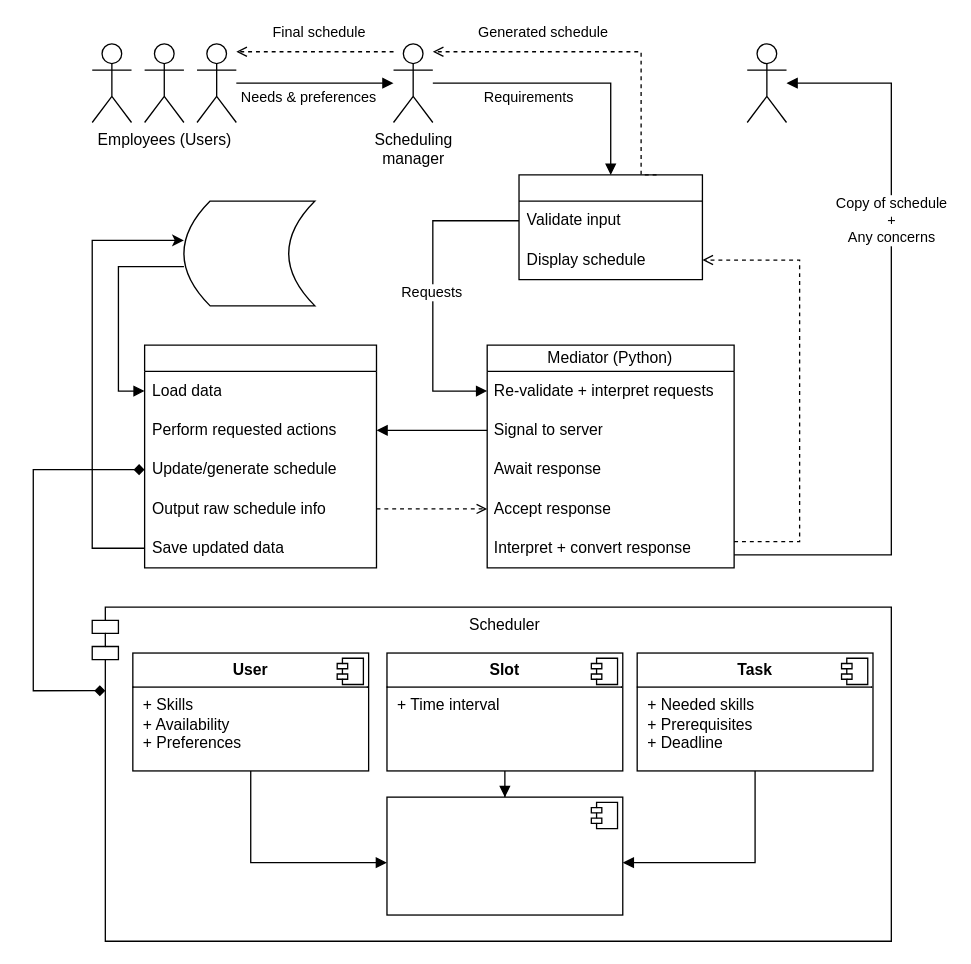
This 971x964 diagram has some shape labels left out. Each missing label, with the box of its shape:
Font-end: (518, 174, 702, 280)
HR: (746, 43, 787, 122)
Local Server (Rust): (143, 344, 376, 568)
Scheduled Slot + Task + Time interval + Users: (386, 796, 623, 915)
